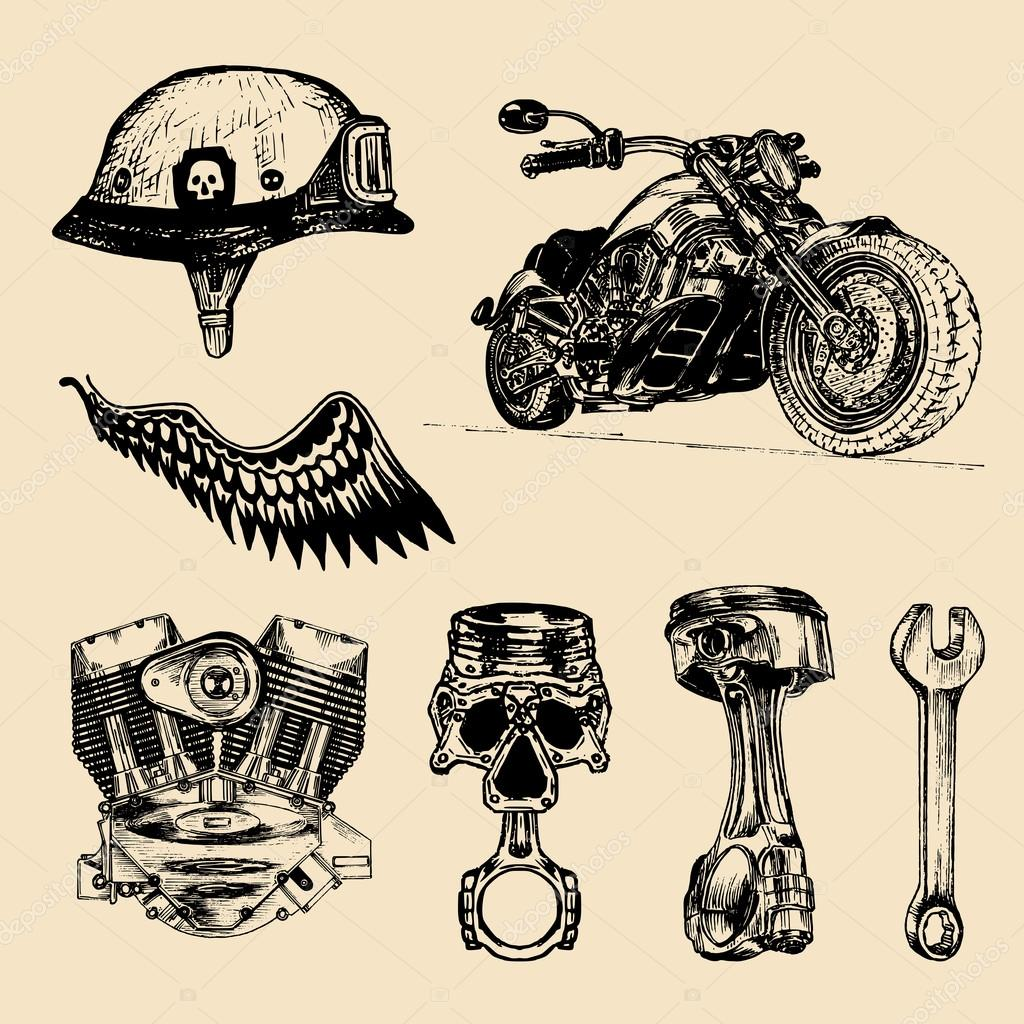with_helmet: (33, 56, 431, 273)
